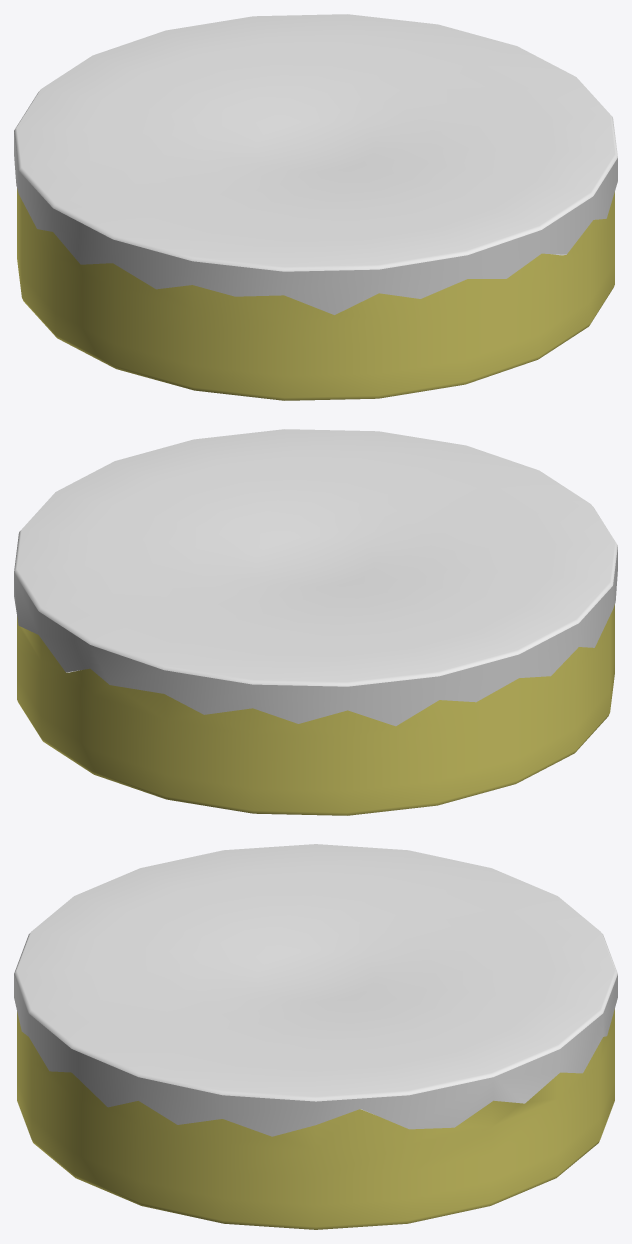
File: pai.fbx
3 renders of one model, top to bottom at view 1: azimuth 30°, elevation 25°; view 2: azimuth 150°, elevation 25°; view 3: azimuth 270°, elevation 25°, orthographic.
Parts seen in each view (by area): view 1: pCylinder1; view 2: pCylinder1; view 3: pCylinder1.
Boxes of the visible parts, x1,y1,x2,y2 form: pCylinder1: (14,14,617,400); pCylinder1: (14,429,617,815); pCylinder1: (14,844,617,1229).
Bounding box in the file's own units: 20.2 × 5 × 20.2.
